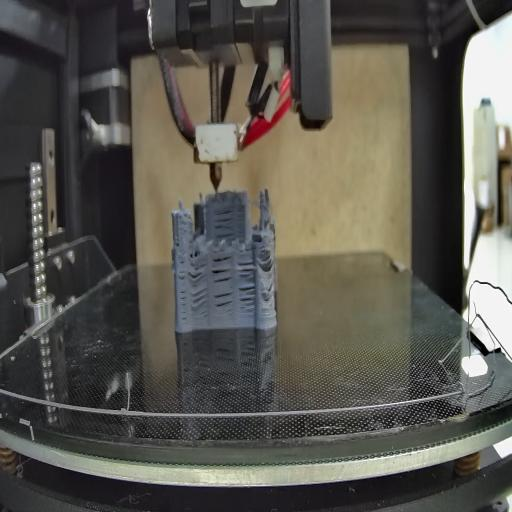cracks: (212, 206, 236, 242), (211, 254, 233, 285), (236, 285, 256, 318), (236, 253, 256, 282), (178, 261, 187, 322), (215, 291, 233, 316), (189, 260, 209, 282), (190, 288, 208, 312), (263, 251, 275, 270), (265, 280, 276, 297), (175, 232, 180, 250)
